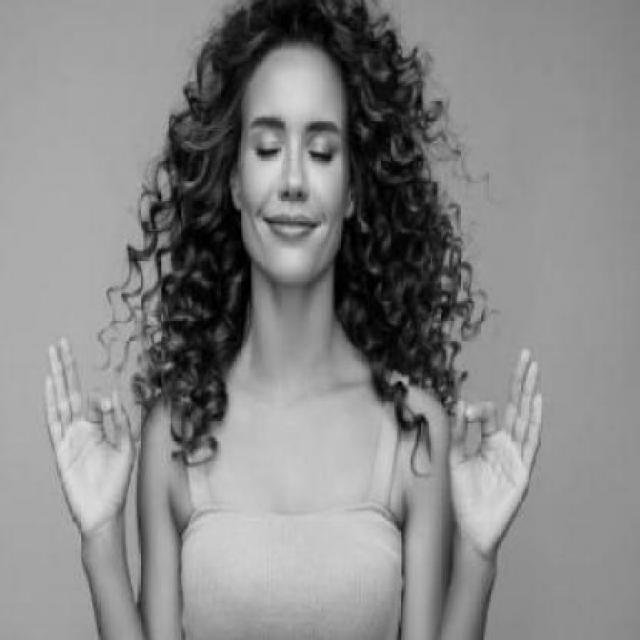happy: (247, 106, 342, 252)
